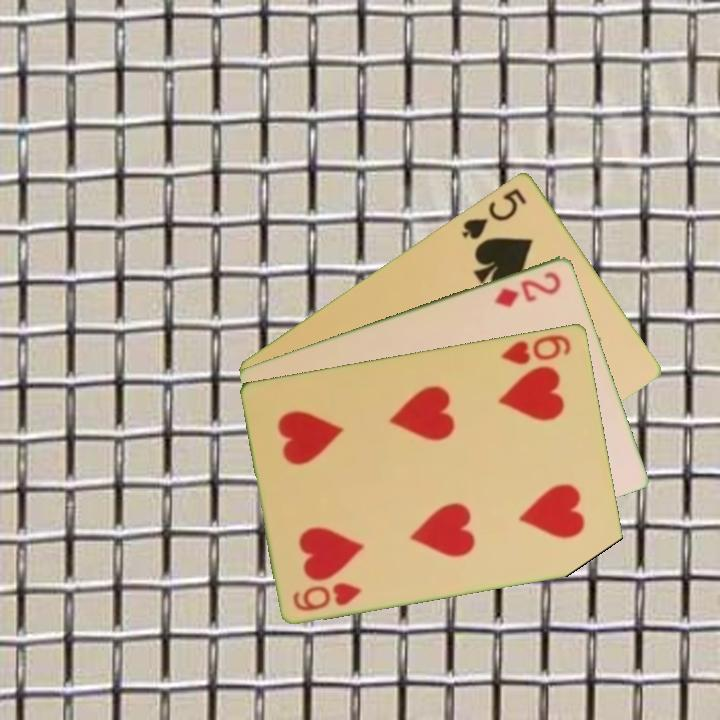2d: (491, 267, 564, 310)
5s: (458, 184, 530, 242)
6h: (497, 330, 574, 367), (289, 578, 365, 614)
